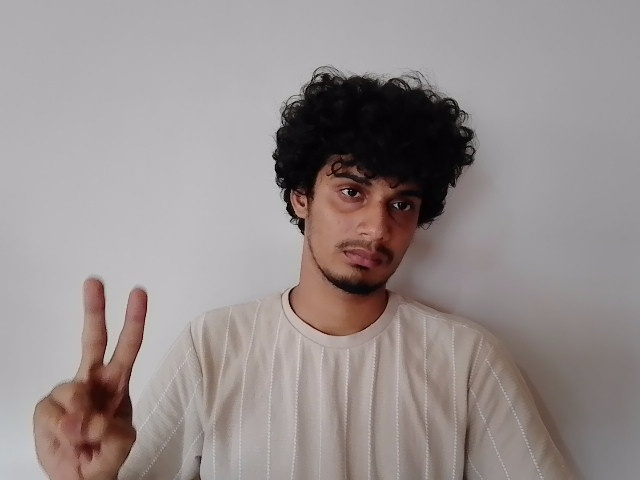travel: (28, 274, 153, 480)
